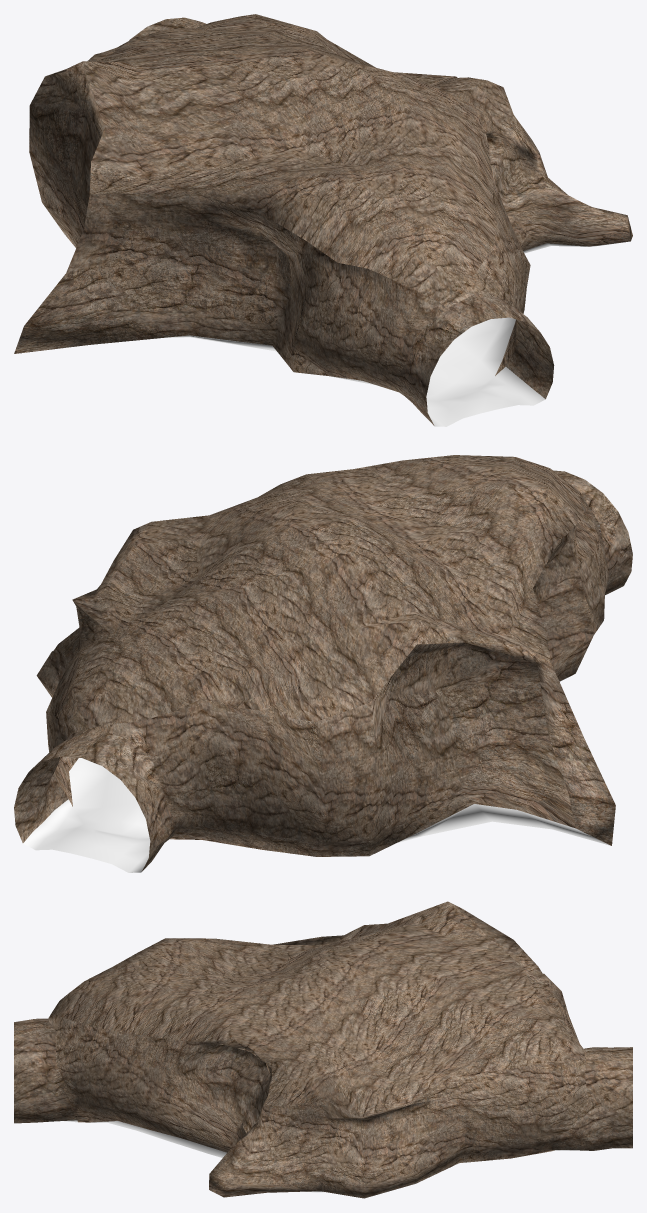
The model's file is CaveRoomEmptyOpen.fbx.
The picture shows the model from 3 angles, top to bottom: view 1: azimuth 30°, elevation 25°; view 2: azimuth 150°, elevation 25°; view 3: azimuth 270°, elevation 25°; orthographic projection. The views are drawn at different scales.
Visible parts, largest first — view 1: CaveRoomEmptyOpen; view 2: CaveRoomEmptyOpen; view 3: CaveRoomEmptyOpen.
Boxes of the visible parts, <box> form: CaveRoomEmptyOpen: <box>14,14,632,426</box>; CaveRoomEmptyOpen: <box>14,455,632,872</box>; CaveRoomEmptyOpen: <box>14,901,632,1198</box>.
Size of the model in its own units: 1335 by 546 by 1680.
